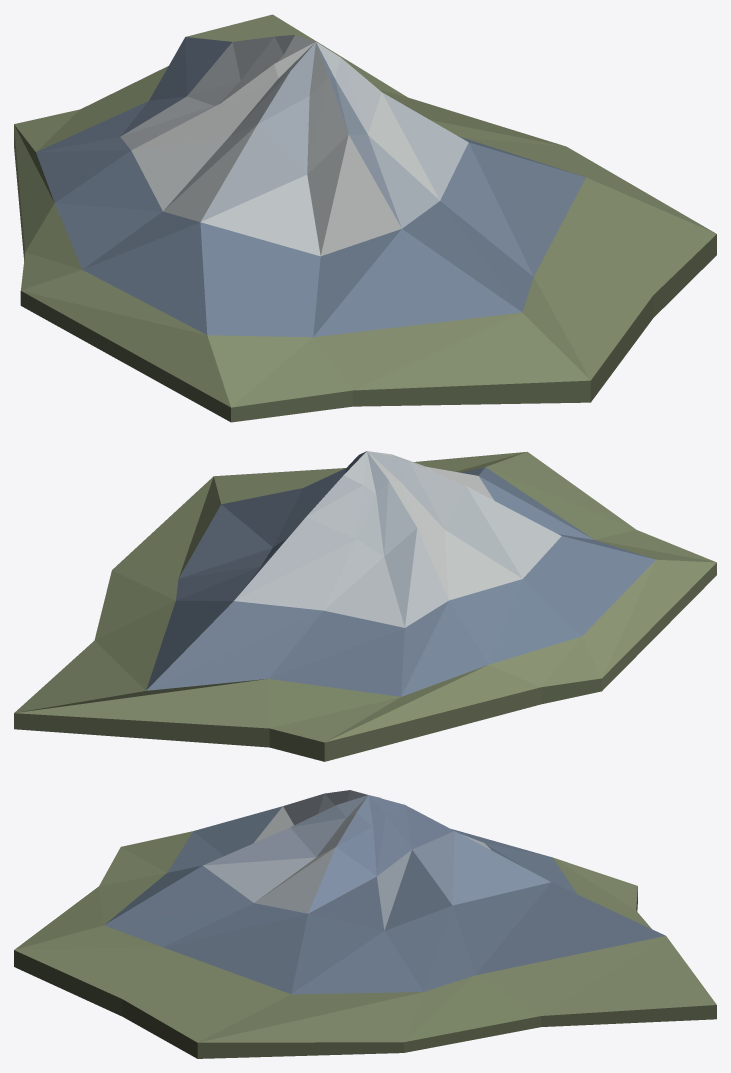
File: massif_west_spur.glb
The picture shows the model from 3 angles, top to bottom: view 1: azimuth 30°, elevation 25°; view 2: azimuth 150°, elevation 25°; view 3: azimuth 270°, elevation 25°; orthographic projection. The views are drawn at different scales.
Parts seen in each view (by area): view 1: massif_west_spur; view 2: massif_west_spur; view 3: massif_west_spur.
Part boxes in pixels (x1=…): massif_west_spur: x1=14, y1=14, x2=716, y2=422; massif_west_spur: x1=14, y1=451, x2=716, y2=761; massif_west_spur: x1=14, y1=790, x2=716, y2=1058.
Size of the model in its own units: 489 by 165 by 676.
